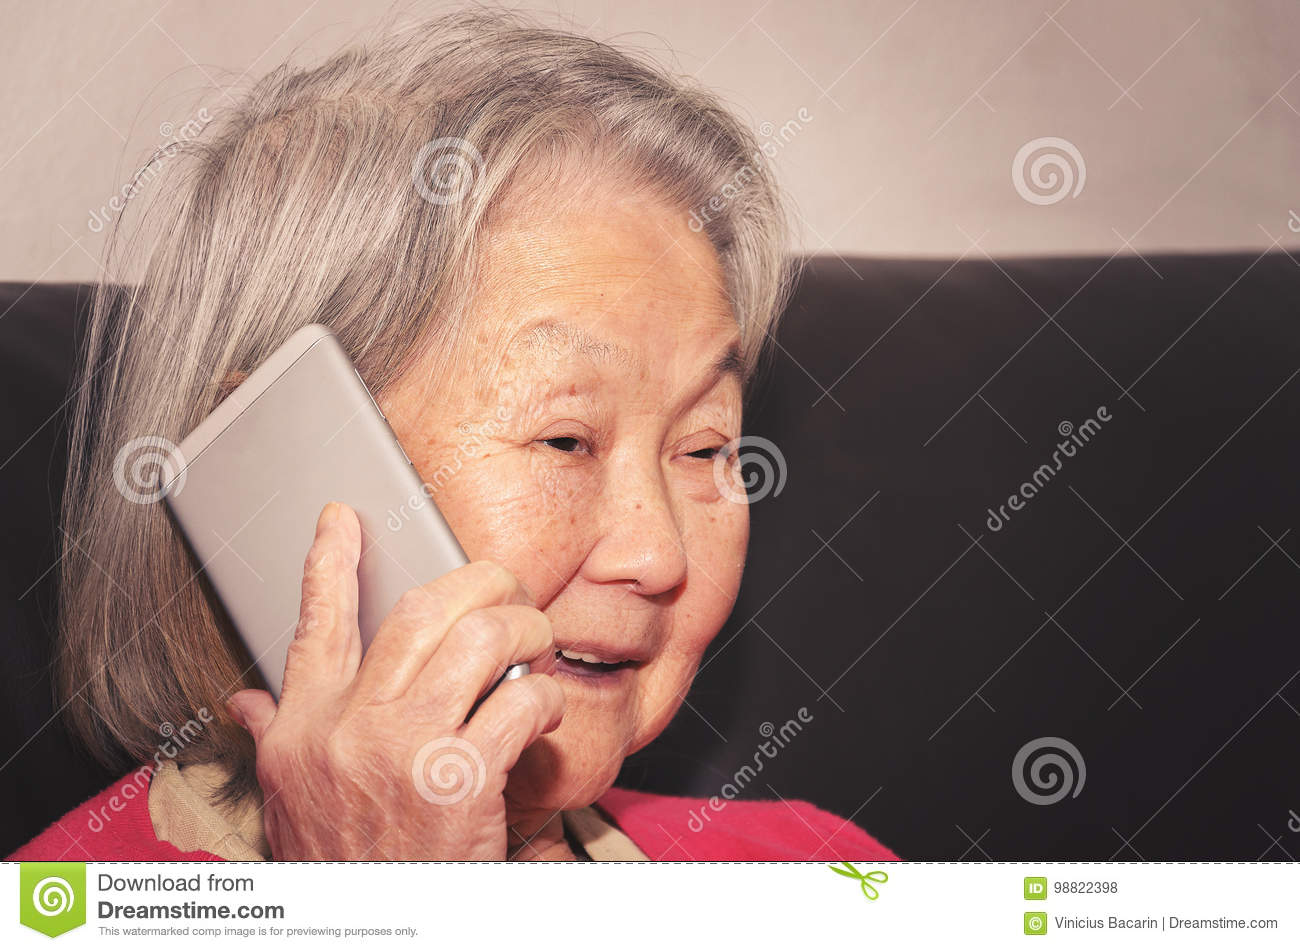phone: (161, 323, 535, 770)
talk: (145, 304, 750, 858)
